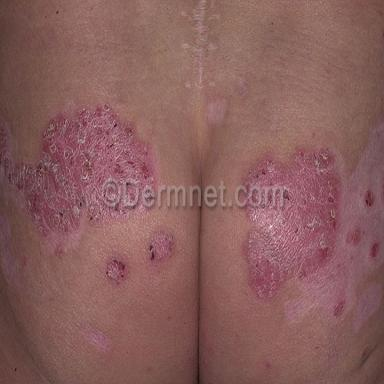Psoriasis: (1, 101, 158, 244), (243, 145, 344, 301), (146, 230, 174, 262), (107, 256, 127, 284)
